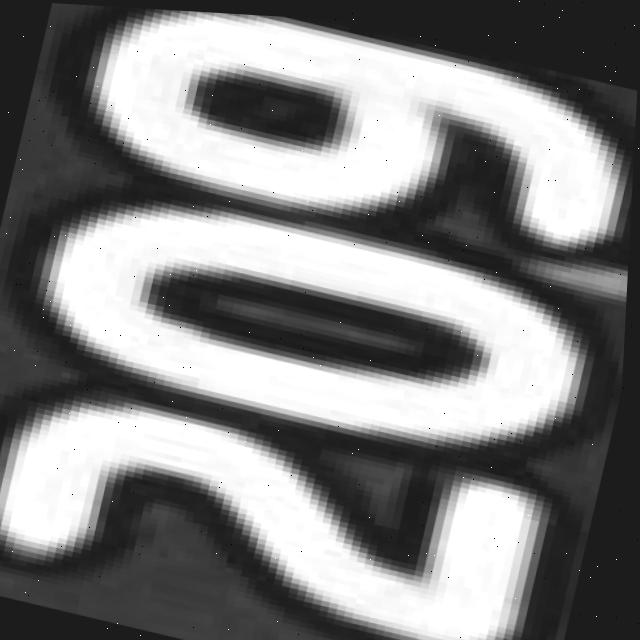character: (16, 157, 623, 491), (60, 4, 640, 291), (0, 353, 570, 640)
